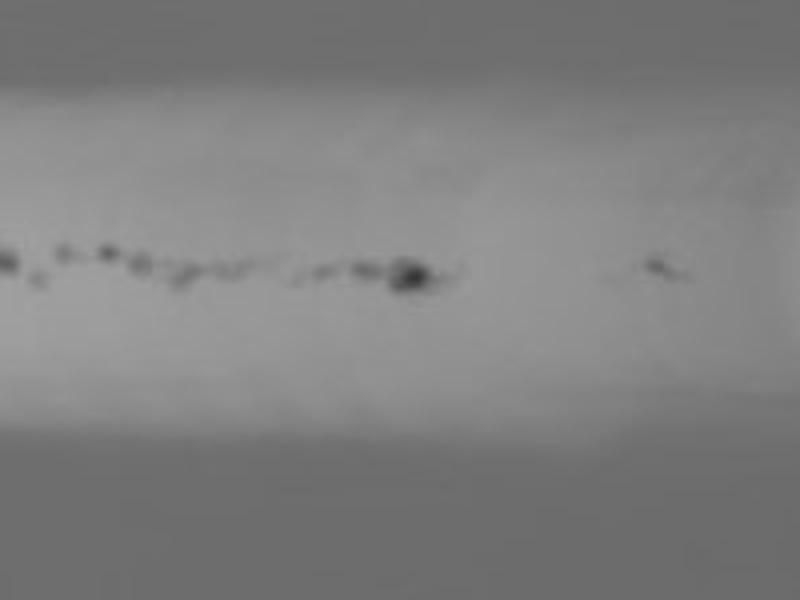defect: (378, 256, 433, 294), (165, 263, 204, 297), (206, 259, 248, 285), (634, 254, 673, 280), (351, 259, 384, 285), (127, 249, 154, 279), (306, 262, 337, 285), (53, 240, 81, 265), (2, 245, 22, 277), (23, 266, 51, 288), (95, 240, 122, 262)
